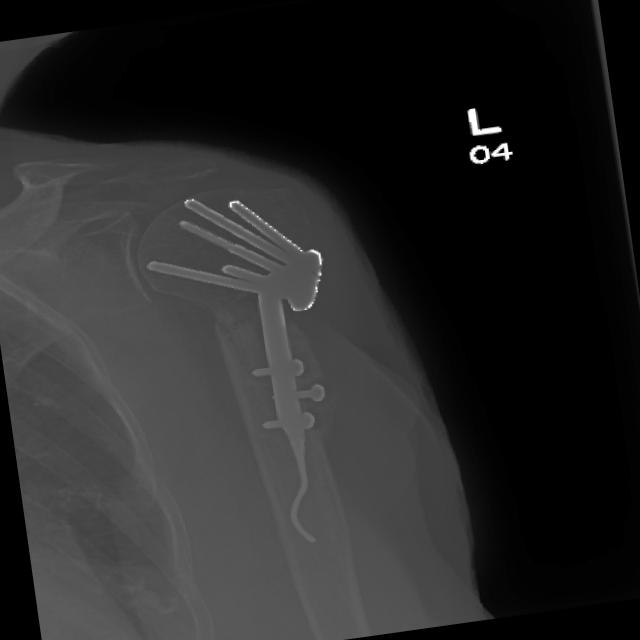shoulder fracture: (192, 270, 321, 364)
